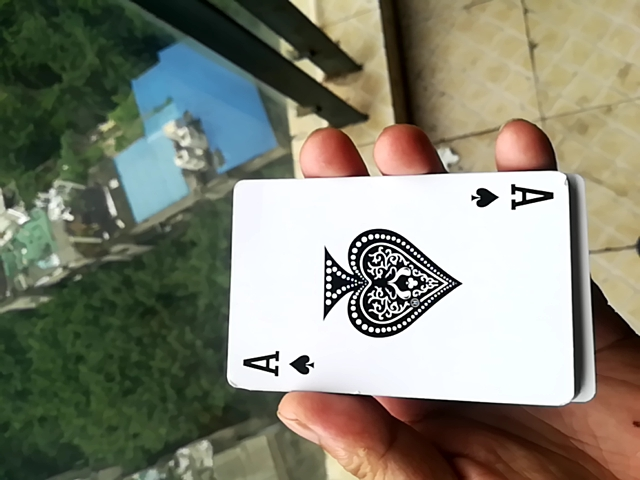ht a: (216, 168, 581, 411)
